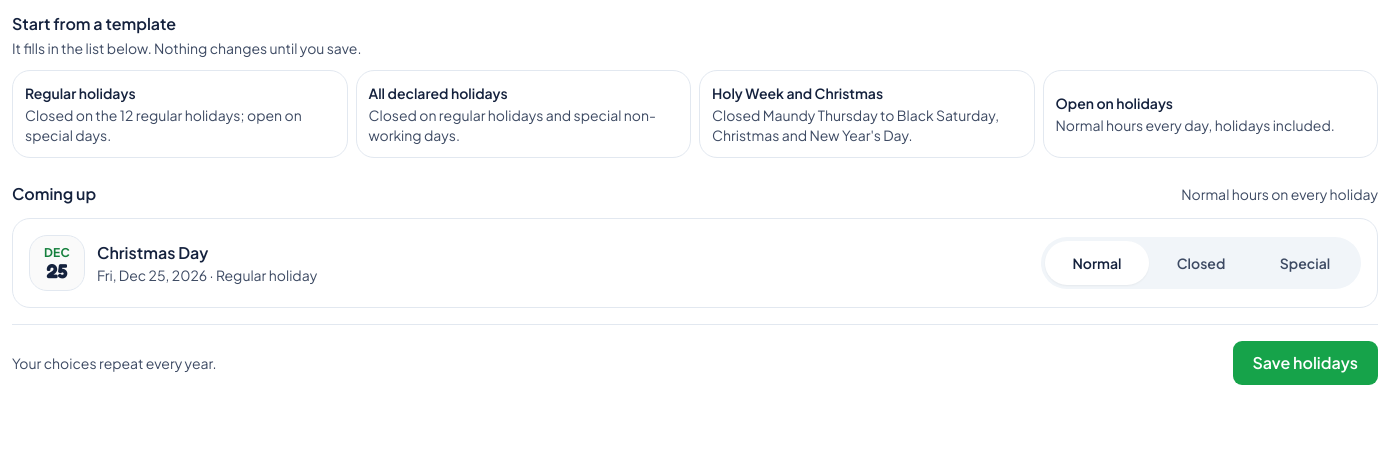
Test case: HolidayRulesForm › asks for opening times on special hours
What coordinates should you click on to do the following:
click the radio button labelled "Special"
I would click on:
 (1305, 263)
Its box is [1280,254,1330,272].
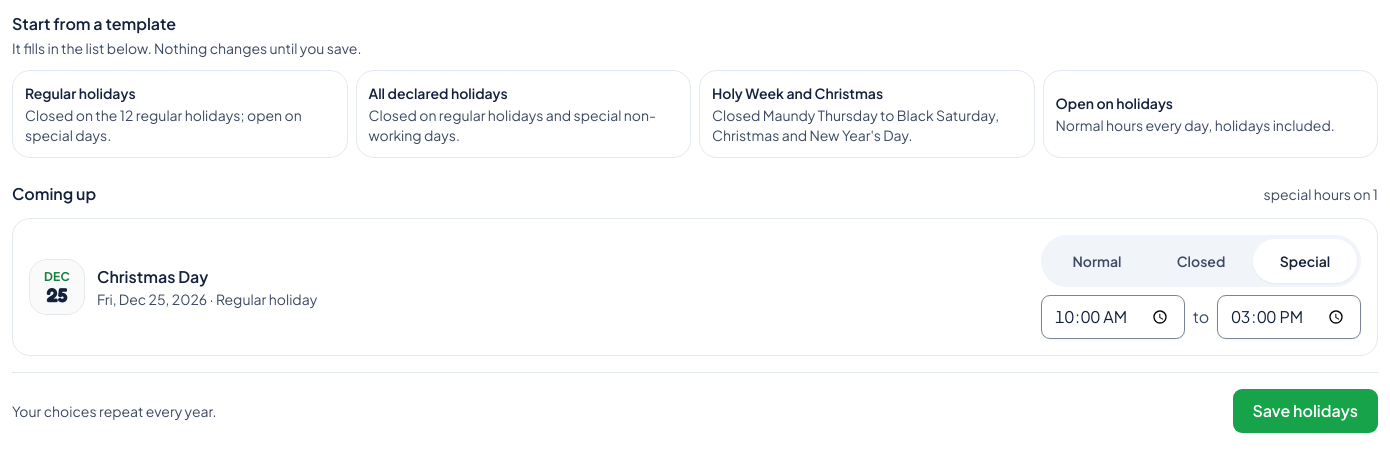
Check: the 1st time field named "Christmas Day opens" is shown, box [1041,295,1185,339]
